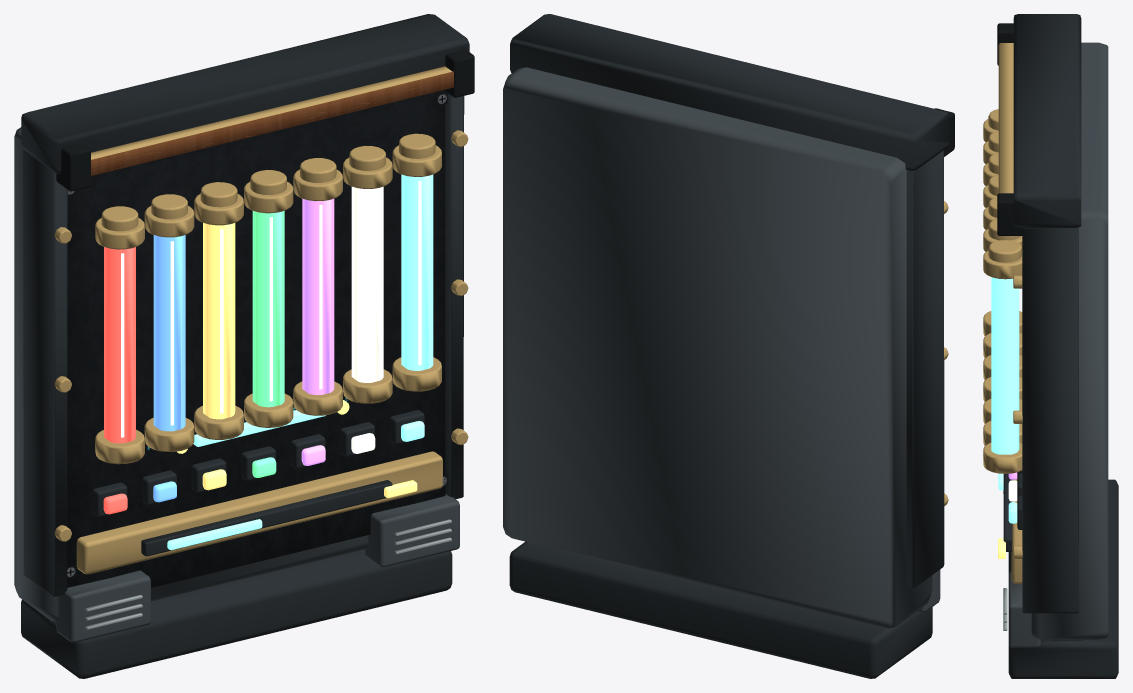
The model's file is hp_puzzle_console_color_sequence.glb.
3 views of the same model, side by side, from view 1: azimuth 30°, elevation 25°; view 2: azimuth 150°, elevation 25°; view 3: azimuth 270°, elevation 25° (orthographic). The views are drawn at different scales.
Parts seen in each view (by area): view 1: sequence_body_surface, sequence_top_guard, sequence_plinth, sequence_side_rail_l, sequence_replay_rail, sequence_body, sequence_side_rail_r, sequence_top_rail_face, sequence_lamp_6_tube, sequence_lamp_4_tube, sequence_lamp_1_tube, sequence_lamp_2_tube (+39 smaller); view 2: sequence_body, sequence_top_guard, sequence_plinth, sequence_side_rail_l; view 3: sequence_side_rail_r, sequence_body, sequence_top_guard, sequence_plinth, sequence_lamp_6_tube, sequence_top_brass_rail, sequence_service_box_r, sequence_lamp_6_socket_bot, sequence_right_clamp, sequence_lamp_6_socket_top, sequence_lamp_6_cap, sequence_replay_rail (+10 smaller).
Boxes of the visible parts, bbox=[...] form: sequence_body_surface: bbox=[67, 90, 445, 587]; sequence_top_guard: bbox=[21, 14, 469, 174]; sequence_plinth: bbox=[21, 549, 452, 678]; sequence_side_rail_l: bbox=[23, 150, 67, 596]; sequence_replay_rail: bbox=[76, 451, 442, 574]; sequence_body: bbox=[14, 127, 368, 621]; sequence_side_rail_r: bbox=[445, 92, 464, 499]; sequence_top_rail_face: bbox=[91, 71, 453, 175]; sequence_lamp_6_tube: bbox=[401, 174, 433, 370]; sequence_lamp_4_tube: bbox=[302, 198, 334, 395]; sequence_lamp_1_tube: bbox=[153, 235, 185, 431]; sequence_lamp_2_tube: bbox=[203, 223, 235, 419]; sequence_body: bbox=[503, 67, 932, 628]; sequence_top_guard: bbox=[510, 14, 949, 170]; sequence_plinth: bbox=[509, 541, 932, 678]; sequence_side_rail_l: bbox=[906, 150, 944, 587]; sequence_side_rail_r: bbox=[1022, 227, 1078, 613]; sequence_body: bbox=[1031, 42, 1108, 639]; sequence_top_guard: bbox=[1013, 14, 1081, 227]; sequence_plinth: bbox=[1008, 479, 1118, 678]; sequence_lamp_6_tube: bbox=[991, 277, 1019, 454]; sequence_top_brass_rail: bbox=[998, 43, 1013, 193]; sequence_service_box_r: bbox=[1008, 571, 1040, 647]; sequence_lamp_6_socket_bot: bbox=[983, 442, 1022, 473]; sequence_right_clamp: bbox=[997, 193, 1022, 235]; sequence_lamp_6_socket_top: bbox=[983, 250, 1022, 279]; sequence_lamp_6_cap: bbox=[988, 240, 1021, 262]; sequence_replay_rail: bbox=[1011, 479, 1022, 583].
Bounding box in the file's own units: 1.34 × 1.68 × 0.418.
17 materials, 3 textured.
